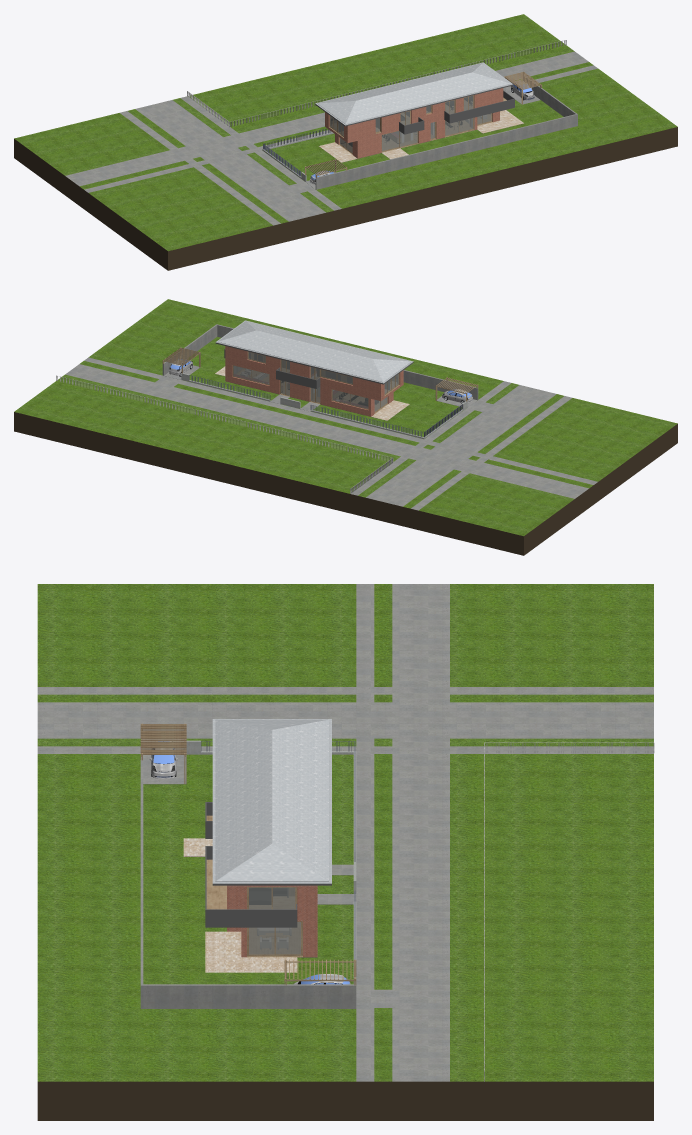
The model's file is robogo_gy_2.fbx.
The picture shows the model from 3 angles, top to bottom: view 1: azimuth 30°, elevation 25°; view 2: azimuth 150°, elevation 25°; view 3: azimuth 270°, elevation 25°; orthographic projection. The views are drawn at different scales.
Parts seen in each view (by area): view 1: fű - zöld, beton - 02, festék - arany bézs, fém - cink, Tégla - futó kötés, fa - vízszintes erezetű fenyő, üveg - átlátszó, fém - rozsdamentes acél, festék - titánfehér, kőburkolat - 02, fém - vas; view 2: fű - zöld, beton - 02, festék - arany bézs, fém - cink, Tégla - futó kötés, fém - rozsdamentes acél, fa - vízszintes erezetű fenyő, üveg - átlátszó, festék - titánfehér, fém - vas, beton - 04, kőburkolat - 02; view 3: fű - zöld, beton - 02, festék - arany bézs, fém - cink, fa - vízszintes erezetű fenyő, kőburkolat - 02, festék - titánfehér, üveg - átlátszó, Tégla - futó kötés, fém - rozsdamentes acél, beton - 04, fa - függőleges erezetű fenyő.
Boxes of the visible parts, x1,y1,x2,y2 form: fű - zöld: (14, 14, 677, 251); beton - 02: (65, 51, 597, 225); festék - arany bézs: (14, 127, 677, 270); fém - cink: (315, 62, 523, 125); Tégla - futó kötés: (325, 88, 503, 158); fa - vízszintes erezetű fenyő: (305, 71, 541, 177); üveg - átlátszó: (330, 95, 491, 152); fém - rozsdamentes acél: (187, 40, 566, 184); festék - titánfehér: (315, 84, 522, 162); kőburkolat - 02: (319, 110, 523, 162); fém - vas: (263, 88, 534, 182); fű - zöld: (14, 299, 677, 536); beton - 02: (65, 324, 597, 510); festék - arany bézs: (14, 412, 677, 555); fém - cink: (180, 320, 463, 403); Tégla - futó kötés: (225, 346, 403, 416); fém - rozsdamentes acél: (56, 359, 472, 493); fa - vízszintes erezetű fenyő: (162, 347, 478, 413); üveg - átlátszó: (233, 352, 398, 411); festék - titánfehér: (215, 342, 413, 420); fém - vas: (189, 364, 472, 437); beton - 04: (181, 373, 467, 439); kőburkolat - 02: (215, 366, 409, 420); fű - zöld: (37, 584, 653, 1081); beton - 02: (37, 584, 653, 1081); festék - arany bézs: (37, 1081, 653, 1120); fém - cink: (212, 719, 331, 883); fa - vízszintes erezetű fenyő: (140, 723, 356, 985); kőburkolat - 02: (183, 838, 297, 972); festék - titánfehér: (184, 802, 331, 957); üveg - átlátszó: (249, 887, 300, 954); Tégla - futó kötés: (227, 887, 317, 957); fém - rozsdamentes acél: (149, 741, 654, 1081); beton - 04: (184, 740, 356, 983); fa - függőleges erezetű fenyő: (206, 815, 294, 909).
Size of the model in its own units: 81.86 by 12.18 by 42.86.
Materials: 30 (17 with a texture image).
